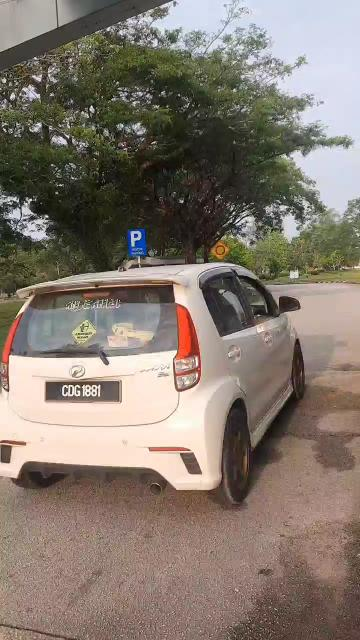License_Plate: (39, 376, 127, 411)
car: (3, 263, 311, 517)
